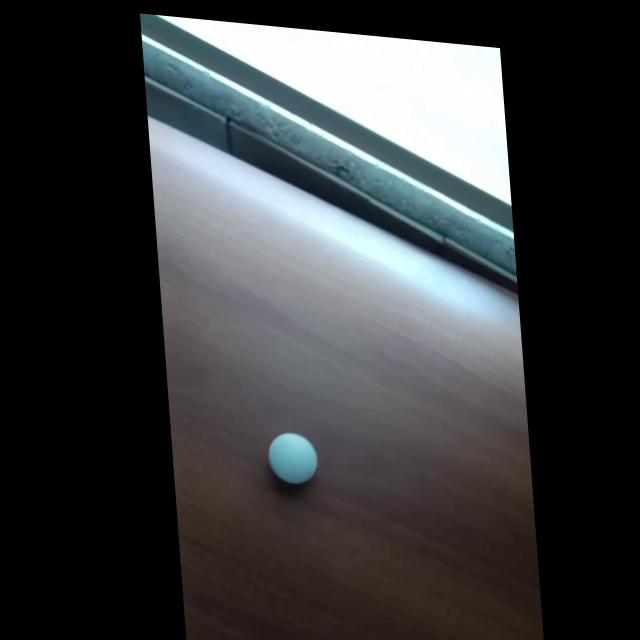white ball: (265, 430, 319, 486)
